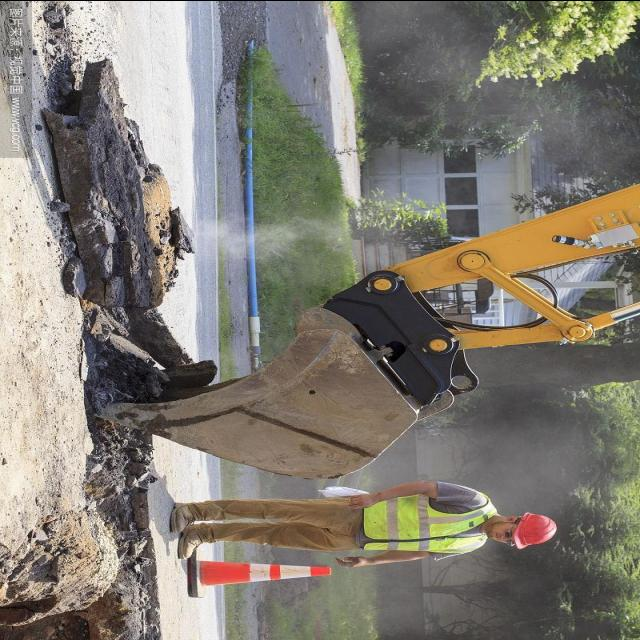helmet: (502, 504, 566, 556)
jacket: (364, 485, 502, 558)
